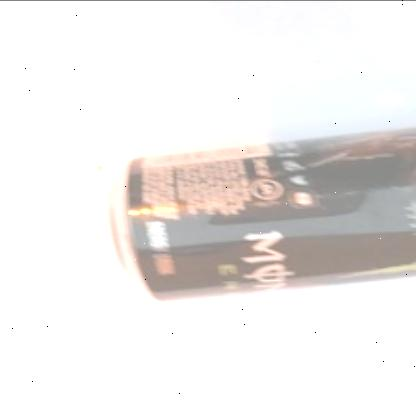Can: (104, 128, 416, 302)
